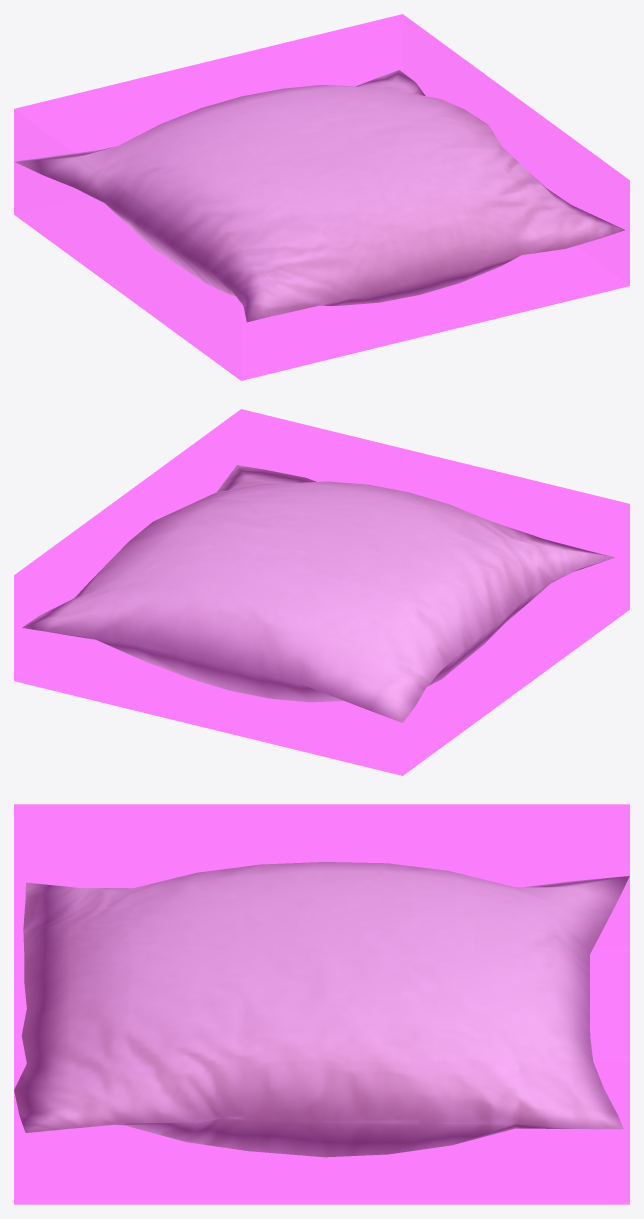
The model's file is cushion.fbx.
The picture shows the model from 3 angles, top to bottom: view 1: azimuth 30°, elevation 25°; view 2: azimuth 150°, elevation 25°; view 3: azimuth 270°, elevation 25°; orthographic projection. The views are drawn at different scales.
Visible parts, largest first — view 1: boundingbox, cushion; view 2: boundingbox, cushion; view 3: boundingbox, cushion.
Boxes of the visible parts, x1,y1,x2,y2 form: boundingbox: [14, 14, 629, 380]; cushion: [14, 70, 624, 322]; boundingbox: [14, 409, 629, 775]; cushion: [22, 465, 614, 722]; boundingbox: [14, 804, 629, 1204]; cushion: [14, 862, 629, 1157].
Size of the model in its own units: 48.43 by 12.59 by 49.02.
Materials: 2 (1 with a texture image).
